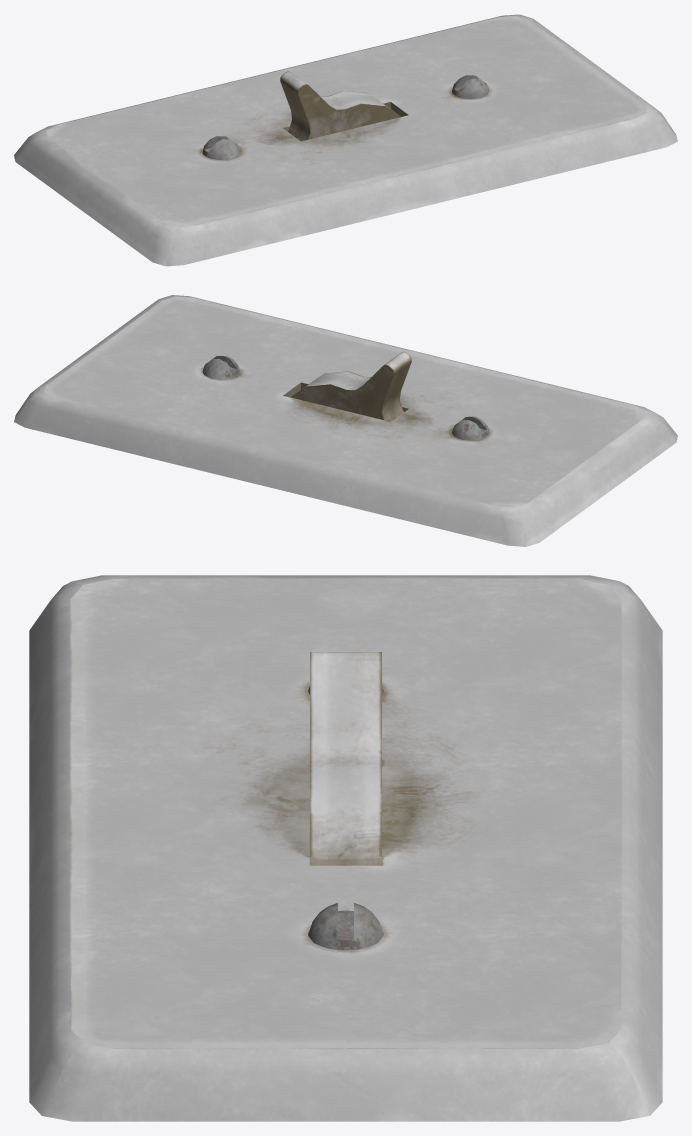
The model's file is light_switch.obj.
3 views of the same model, one above another, from view 1: azimuth 30°, elevation 25°; view 2: azimuth 150°, elevation 25°; view 3: azimuth 270°, elevation 25° (orthographic). The views are drawn at different scales.
Visible parts, largest first — view 1: Object_2; view 2: Object_2; view 3: Object_2.
Boxes of the visible parts, left/top/right/bottom form: Object_2: left=14, top=14, right=677, bottom=266; Object_2: left=14, top=295, right=677, bottom=546; Object_2: left=29, top=575, right=662, bottom=1121.
Bounding box in the file's own units: 2.1 × 0.5608 × 1.1.
1 material, 1 textured.
